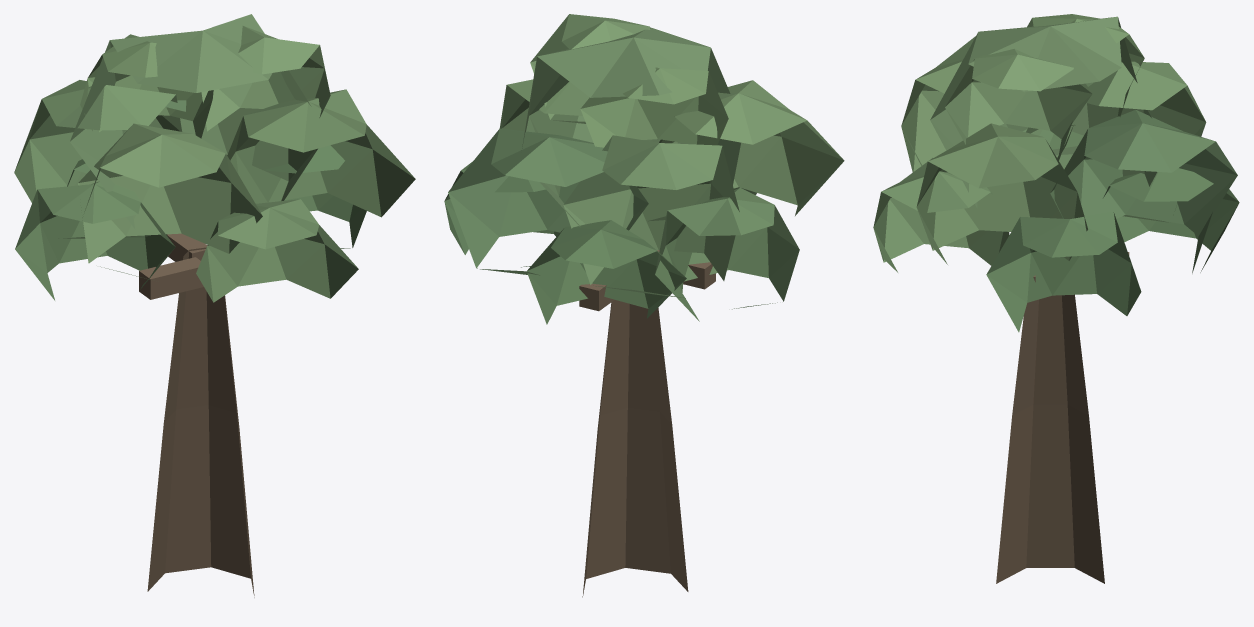
File: tree_temperate_oak_lod0.glb
The picture shows the model from 3 angles, left to right: view 1: azimuth 30°, elevation 25°; view 2: azimuth 150°, elevation 25°; view 3: azimuth 270°, elevation 25°; orthographic projection.
Size of the model in its own units: 1.22 by 1.89 by 1.11.
